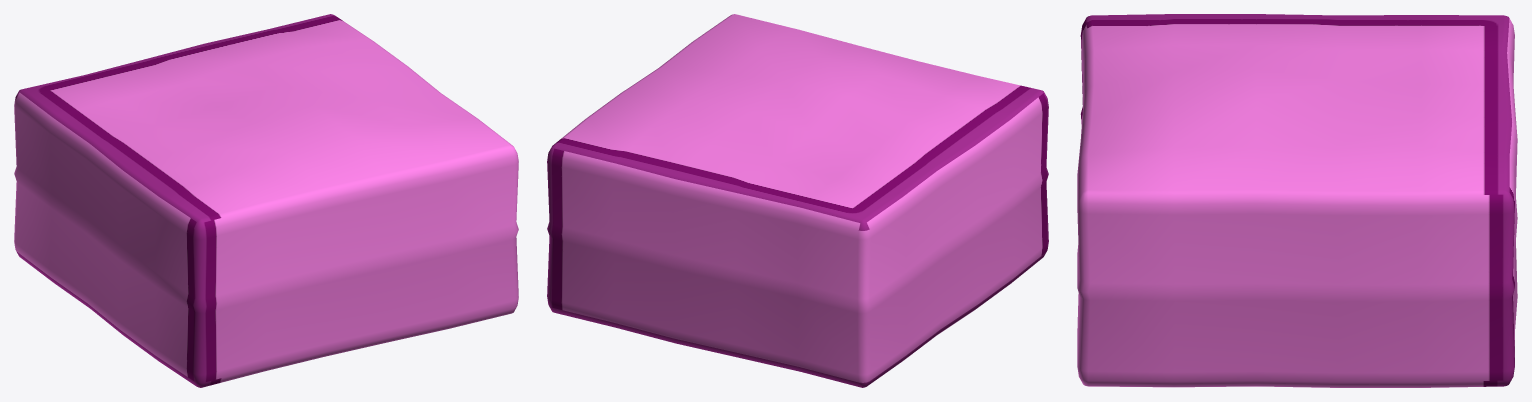
The model's file is Tile-Blank.FBX.
3 views of the same model, side by side, from view 1: azimuth 30°, elevation 25°; view 2: azimuth 150°, elevation 25°; view 3: azimuth 270°, elevation 25° (orthographic). The views are drawn at different scales.
Parts seen in each view (by area): view 1: Tile-Cake; view 2: Tile-Cake; view 3: Tile-Cake.
Part boxes in pixels (x1=…): Tile-Cake: x1=14, y1=14, x2=518, y2=387; Tile-Cake: x1=547, y1=14, x2=1048, y2=387; Tile-Cake: x1=1077, y1=14, x2=1517, y2=387.
Bounding box in the file's own units: 40.64 × 23.85 × 40.56.
